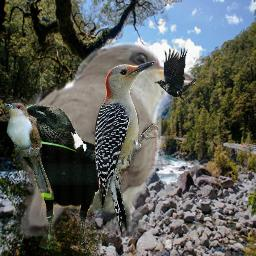Crow: (22, 104, 104, 253), (154, 46, 196, 107)
Cuckoo: (15, 42, 195, 239), (4, 102, 54, 200)
Woodpecker: (95, 57, 161, 243)
